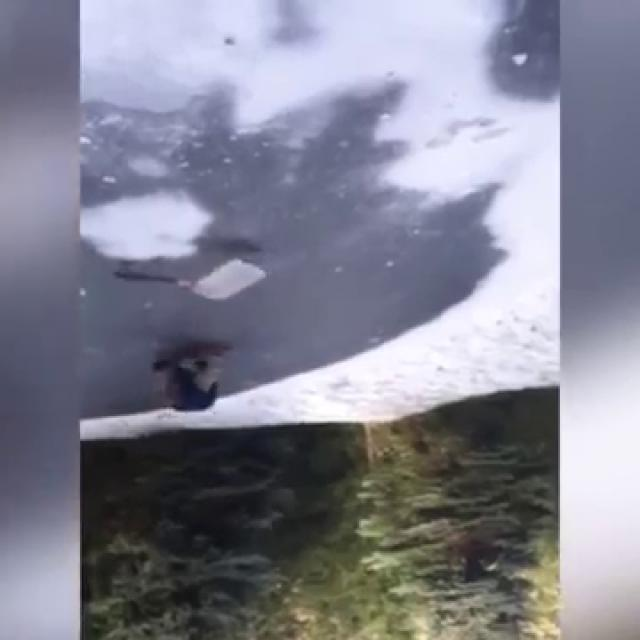fall: (152, 340, 234, 422)
